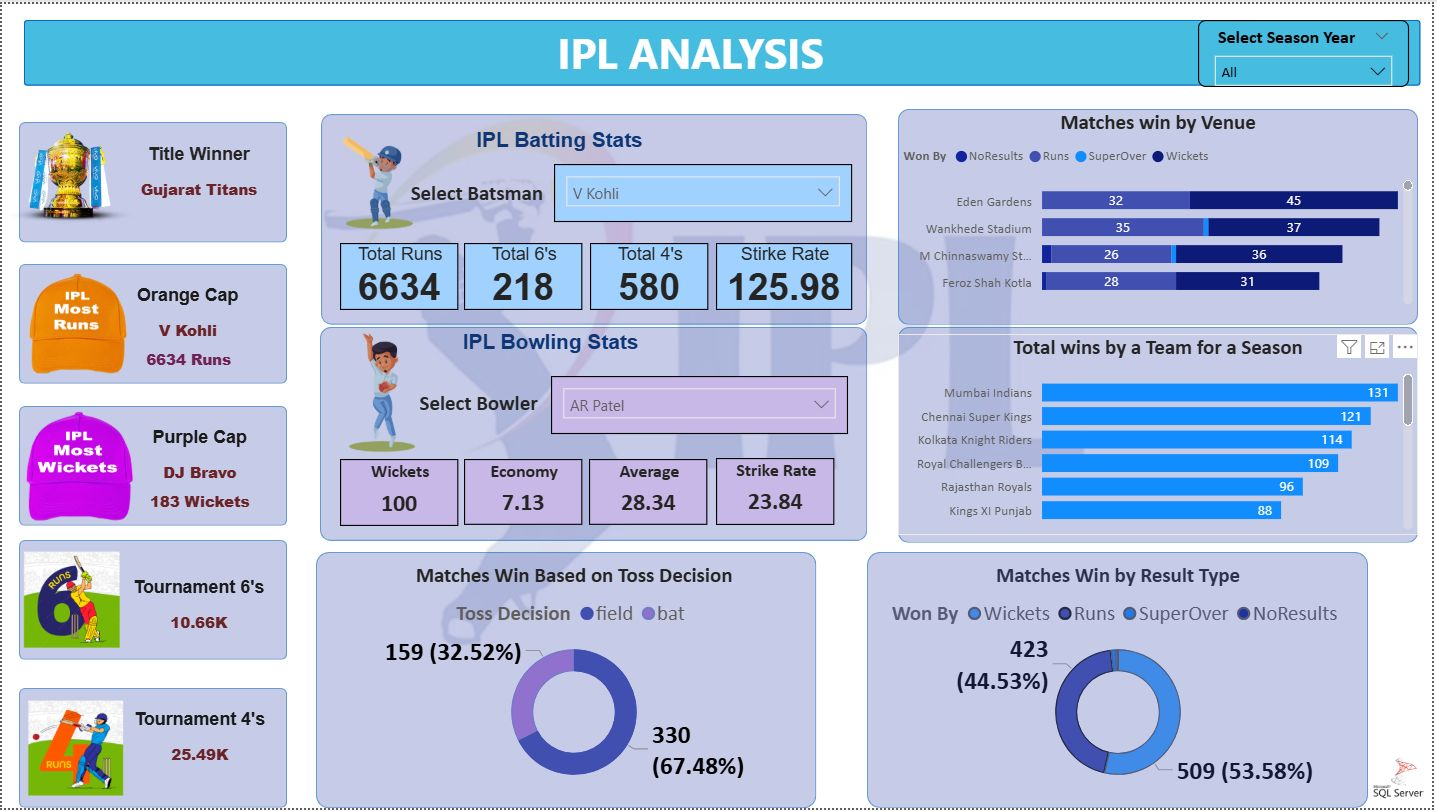

Layout of this report page (visuals, bound fields, positions):
{"tool":"powerbi","page":{"name":"Page 1","canvas":[1280,720],"ordinal":0},"visuals":[{"type":"shape","box":[19.6,14.7,1250.6,58.9],"z":0},{"type":"textbox","box":[447.4,13.6,337.5,92.4],"z":1000},{"type":"shape","box":[15.1,106,240,108],"z":2000},{"type":"shape","box":[15.2,232.5,240.1,107.4],"z":3000},{"type":"slicer","fields":{"Values":["Calendar Table.Year"]},"box":[1070.9,14.6,188.7,60.3],"z":4000},{"type":"card","title":"Title Winner","fields":{"Values":["ipl_matches_2008_2022 csv.Tittle Winner"]},"box":[87.8,125.7,177.2,68.1],"z":5000},{"type":"shape","box":[15.2,360.1,240.1,107.4],"z":6000},{"type":"shape","box":[15.2,480.2,240.1,107.4],"z":7000},{"type":"shape","box":[15.2,612.8,240.1,107.4],"z":8000},{"type":"card","title":"Orange Cap","fields":{"Values":["ipl_ball_by_ball_2008_2022 csv.batter"]},"box":[78.3,251.5,176.9,69.5],"z":9000},{"type":"card","title":"Orange Cap","fields":{"Values":["ipl_ball_by_ball_2008_2022 csv.Batter Runs"]},"box":[118.8,300.7,96,39.2],"z":10000},{"type":"card","title":"Purple Cap","fields":{"Values":["ipl_ball_by_ball_2008_2022 csv.bowler"]},"box":[88.5,379.1,176.9,69.5],"z":11000},{"type":"card","title":"Purple Cap","fields":{"Values":["ipl_ball_by_ball_2008_2022 csv.wickets"]},"box":[88.5,433.4,176.9,29.1],"z":12000},{"type":"card","title":"Tournament 6''s","fields":{"Values":["ipl_ball_by_ball_2008_2022 csv.batsman_run"]},"box":[87.8,513.3,177,68.6],"z":13000},{"type":"card","title":"Tournament 4''s","fields":{"Values":["ipl_ball_by_ball_2008_2022 csv.batsman_run"]},"box":[88.5,631.8,176.9,69.5],"z":14000},{"type":"shape","box":[286,98.2,489.2,188.7],"z":15000},{"type":"shape","box":[285,288.9,490.2,191.6],"z":16000},{"type":"card","title":"Total Runs","fields":{"Values":["ipl_ball_by_ball_2008_2022 csv.batsman_run"]},"box":[302.5,214,106,60.3],"z":17000},{"type":"card","title":"Total 6''s","fields":{"Values":["ipl_ball_by_ball_2008_2022 csv.batsman_run"]},"box":[413.4,214,106,60.3],"z":18000},{"type":"card","title":"Total 4''s","fields":{"Values":["ipl_ball_by_ball_2008_2022 csv.batsman_run"]},"box":[526.2,214,106,60.3],"z":19000},{"type":"card","title":"Stirke Rate","fields":{"Values":["ipl_ball_by_ball_2008_2022 csv.strike rate for batsman"]},"box":[639,214,121.6,60.3],"z":20000},{"type":"textbox","box":[356.8,152.3,148.2,38.4],"z":21000},{"type":"textbox","box":[359.1,105.7,280.3,37.6],"z":22000},{"type":"textbox","box":[369.2,340.3,130.4,32.9],"z":23000},{"type":"slicer","fields":{"Values":["ipl_ball_by_ball_2008_2022 csv.batter"]},"box":[494.1,143,266.5,51.6],"z":24000},{"type":"slicer","fields":{"Values":["ipl_ball_by_ball_2008_2022 csv.bowler"]},"box":[491.6,333.1,266,51.9],"z":25000},{"type":"card","title":"Wickets","fields":{"Values":["ipl_ball_by_ball_2008_2022 csv.iswicket_delivery"]},"box":[302.7,407.5,105.7,60],"z":26000},{"type":"card","title":"Economy","fields":{"Values":["ipl_ball_by_ball_2008_2022 csv.Economy"]},"box":[413.7,407.5,105.7,59.1],"z":27000},{"type":"card","title":"Average","fields":{"Values":["ipl_ball_by_ball_2008_2022 csv.Average By Bowler"]},"box":[525.8,407,106.1,58.9],"z":28000},{"type":"card","title":"Strike Rate","fields":{"Values":["ipl_ball_by_ball_2008_2022 csv.Bowling Strike Rate"]},"box":[639,406.4,106,59.7],"z":29000},{"type":"textbox","box":[354.6,286.6,273.1,34.9],"z":30000},{"type":"shape","box":[281.5,490.6,448.2,229.6],"z":31000},{"type":"donutChart","title":"Matches Win Based on Toss Decision","fields":{"Y":["ipl_matches_2008_2022 csv.Matches Win on toss decision"],"Category":["ipl_matches_2008_2022 csv.toss_decision"]},"box":[284.8,499.7,454.9,210.4],"z":32000},{"type":"donutChart","title":"Matches Win by Result Type","fields":{"Y":["ipl_matches_2008_2022 csv.id"],"Category":["ipl_matches_2008_2022 csv.won_by"]},"box":[764.8,499.7,469.3,210.4],"z":33000},{"type":"shape","box":[774.6,490.7,448.7,229.3],"z":34000},{"type":"shape","box":[802.4,94,465.7,193.4],"z":35000},{"type":"shape","box":[802.4,289.3,465.7,193.4],"z":36000},{"type":"barChart","title":"Matches win by Venue","fields":{"Category":["ipl_matches_2008_2022 csv.venue"],"Y":["ipl_matches_2008_2022 csv.id"],"Series":["ipl_matches_2008_2022 csv.won_by"]},"box":[802.4,94,465.7,180],"z":37000},{"type":"barChart","title":"Total wins by a Team for a Season","fields":{"Category":["ipl_matches_2008_2022 csv.winning_team"],"Y":["ipl_matches_2008_2022 csv.winning_team"]},"box":[802.4,295.5,465.7,180],"z":38000},{"type":"image","box":[264.9,93.3,142.7,133.1],"z":39000},{"type":"image","box":[249.8,258,181.1,179.8],"z":40000},{"type":"image","box":[12.4,618.9,107,94.7],"z":41000},{"type":"image","box":[12.4,485.8,100.2,96.1],"z":42000},{"type":"image","box":[12.4,233.3,112.5,105.7],"z":43000},{"type":"image","box":[12.4,351.3,115.3,126.3],"z":44000},{"type":"image","box":[0,97.4,124.9,116.6],"z":45000},{"type":"image","box":[1222.7,665.6,57.6,54.9],"z":46000}]}

Visuals, with their boxes in screenshot pixels (x1, y1, x2, y2), scaled from the page's 1280x720 canvas onto the 1437x812 screenshot:
shape: box=[22, 17, 1426, 83]
textbox: box=[502, 15, 881, 120]
shape: box=[17, 120, 286, 241]
shape: box=[17, 262, 287, 383]
slicer - Calendar Table.Year: box=[1202, 16, 1414, 84]
"Title Winner" card: box=[99, 142, 298, 219]
shape: box=[17, 406, 287, 527]
shape: box=[17, 542, 287, 663]
shape: box=[17, 691, 287, 811]
"Orange Cap" card: box=[88, 284, 287, 362]
"Orange Cap" card: box=[133, 339, 241, 383]
"Purple Cap" card: box=[99, 428, 298, 506]
"Purple Cap" card: box=[99, 489, 298, 522]
"Tournament 6''s" card: box=[99, 579, 297, 656]
"Tournament 4''s" card: box=[99, 713, 298, 791]
shape: box=[321, 111, 870, 324]
shape: box=[320, 326, 870, 542]
"Total Runs" card: box=[340, 241, 459, 309]
"Total 6''s" card: box=[464, 241, 583, 309]
"Total 4''s" card: box=[591, 241, 710, 309]
"Stirke Rate" card: box=[717, 241, 854, 309]
textbox: box=[401, 172, 567, 215]
textbox: box=[403, 119, 718, 162]
textbox: box=[414, 384, 561, 421]
slicer - ipl_ball_by_ball_2008_2022 csv.batter: box=[555, 161, 854, 219]
slicer - ipl_ball_by_ball_2008_2022 csv.bowler: box=[552, 376, 851, 434]
"Wickets" card: box=[340, 460, 458, 527]
"Economy" card: box=[464, 460, 583, 526]
"Average" card: box=[590, 459, 709, 525]
"Strike Rate" card: box=[717, 458, 836, 526]
textbox: box=[398, 323, 705, 363]
shape: box=[316, 553, 819, 811]
"Matches Win Based on Toss Decision" donutChart: box=[320, 564, 830, 801]
"Matches Win by Result Type" donutChart: box=[859, 564, 1385, 801]
shape: box=[870, 553, 1373, 811]
shape: box=[901, 106, 1424, 324]
shape: box=[901, 326, 1424, 544]
"Matches win by Venue" barChart: box=[901, 106, 1424, 309]
"Total wins by a Team for a Season" barChart: box=[901, 333, 1424, 536]
image: box=[297, 105, 458, 255]
image: box=[280, 291, 484, 494]
image: box=[14, 698, 134, 805]
image: box=[14, 548, 126, 656]
image: box=[14, 263, 140, 382]
image: box=[14, 396, 143, 539]
image: box=[0, 110, 140, 241]
image: box=[1373, 751, 1436, 811]
